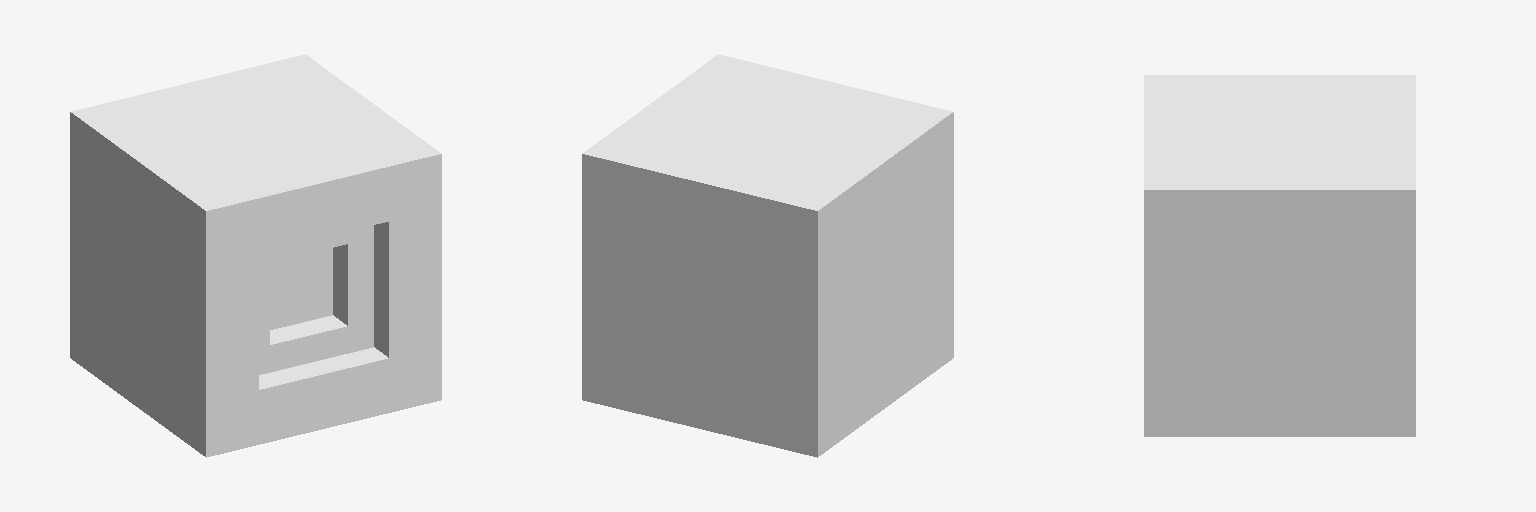
The model's file is Block03.obj.
The picture shows the model from 3 angles: view 1: azimuth 30°, elevation 25°; view 2: azimuth 150°, elevation 25°; view 3: azimuth 270°, elevation 25°; orthographic projection.
Visible parts, largest first — view 1: object 1; view 2: object 1; view 3: object 1.
Part boxes in pixels (x1,y1,x2,y2): object 1: (70,54,441,457); object 1: (582,54,953,457); object 1: (1144,75,1415,436).
Size of the model in its own units: 0.9 by 0.9 by 0.9.